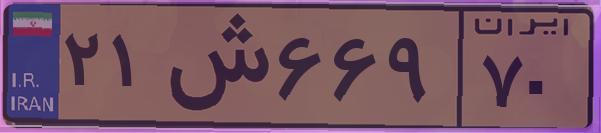0: (525, 38, 570, 115)
1: (110, 28, 158, 98)
2: (57, 26, 110, 100)
6: (270, 28, 330, 110), (330, 28, 385, 110)
7: (475, 38, 525, 113)
9: (385, 28, 445, 110)
ش: (158, 12, 270, 120)
